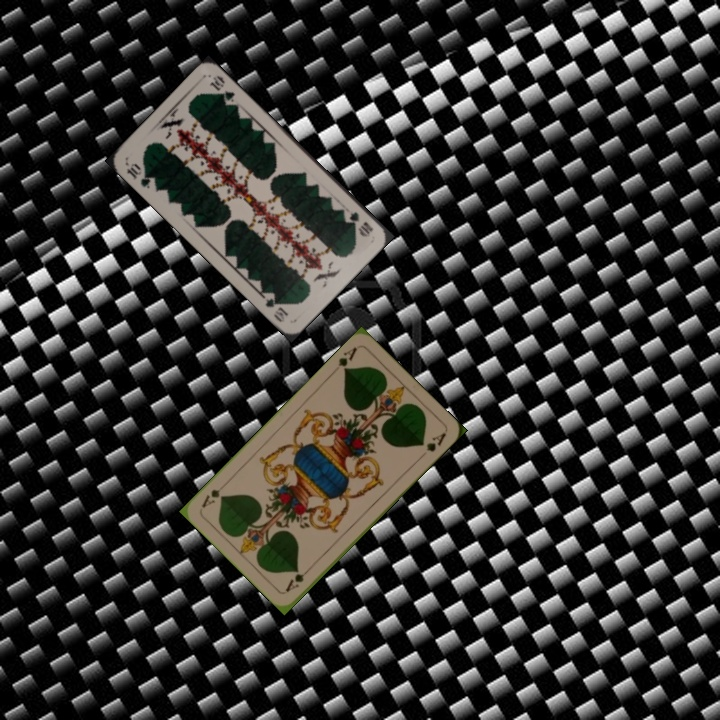G10: (122, 159, 154, 191), (345, 207, 376, 239)
GA: (281, 562, 314, 595), (334, 343, 360, 374)
